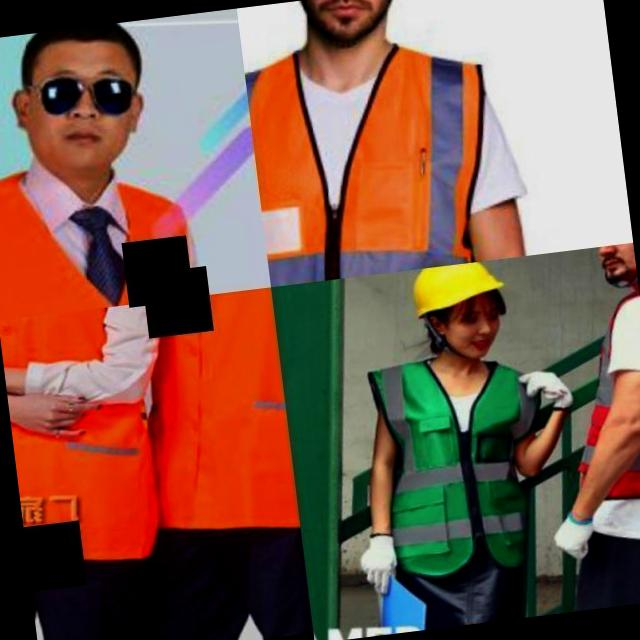vest: (240, 12, 530, 286), (334, 344, 558, 600), (90, 287, 301, 557), (0, 300, 190, 582), (0, 142, 245, 320), (573, 302, 640, 540)
